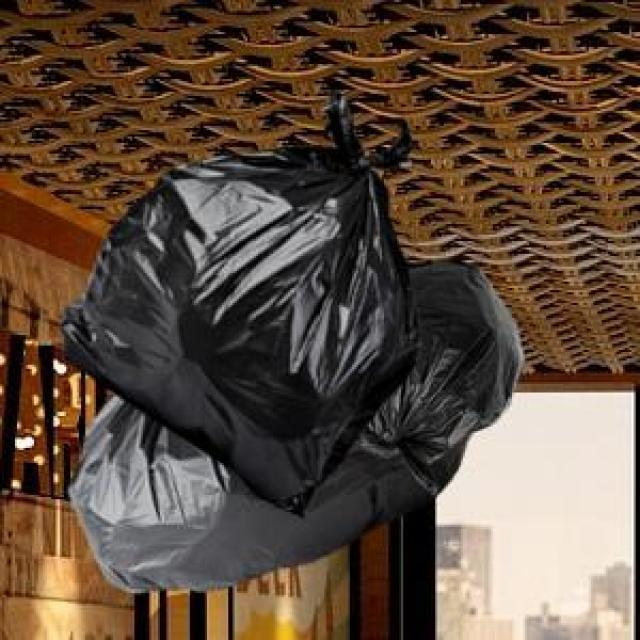garbage_bag: (58, 87, 525, 591)
